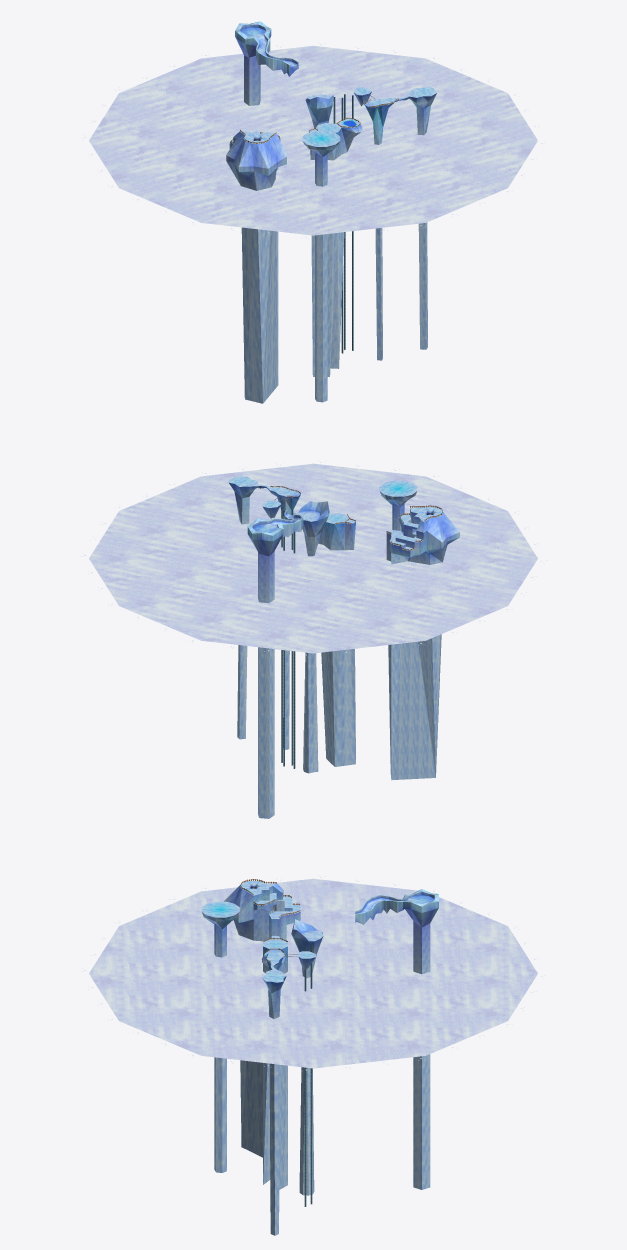
The model's file is ex_w_map_all.glb.
The picture shows the model from 3 angles, top to bottom: view 1: azimuth 30°, elevation 25°; view 2: azimuth 150°, elevation 25°; view 3: azimuth 270°, elevation 25°; orthographic projection.
Visible parts, largest first — view 1: ex_w_map_all; view 2: ex_w_map_all; view 3: ex_w_map_all.
Boxes of the visible parts, bbox=[...] form: ex_w_map_all: bbox=[82, 21, 544, 403]; ex_w_map_all: bbox=[80, 460, 546, 818]; ex_w_map_all: bbox=[82, 875, 544, 1235].
Size of the model in its own units: 60 by 32.08 by 60.
8 materials, 8 textured.
